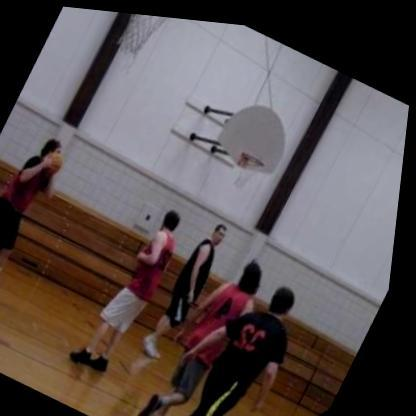basketball: (44, 144, 71, 175)
